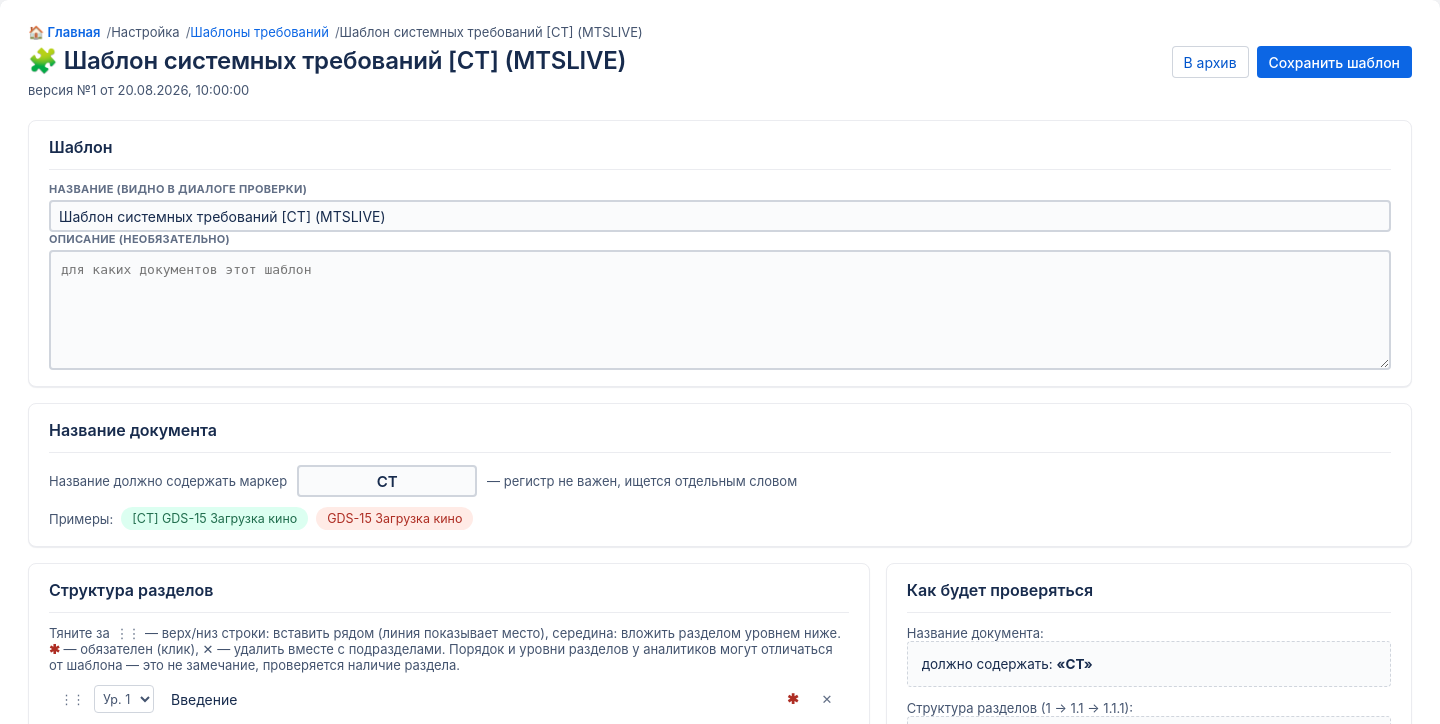
Test: TemplatePage: редактирование › показывает ошибку бэкенда при 422 (дубликаты разделов)
Expected: the 2nd field showing "Введение" is shown, top-left (162, 684), bottom-right (772, 714)
Click the button "Сохранить шаблон": {"x": 1334, "y": 62} top-left (1256, 46), bottom-right (1412, 78)
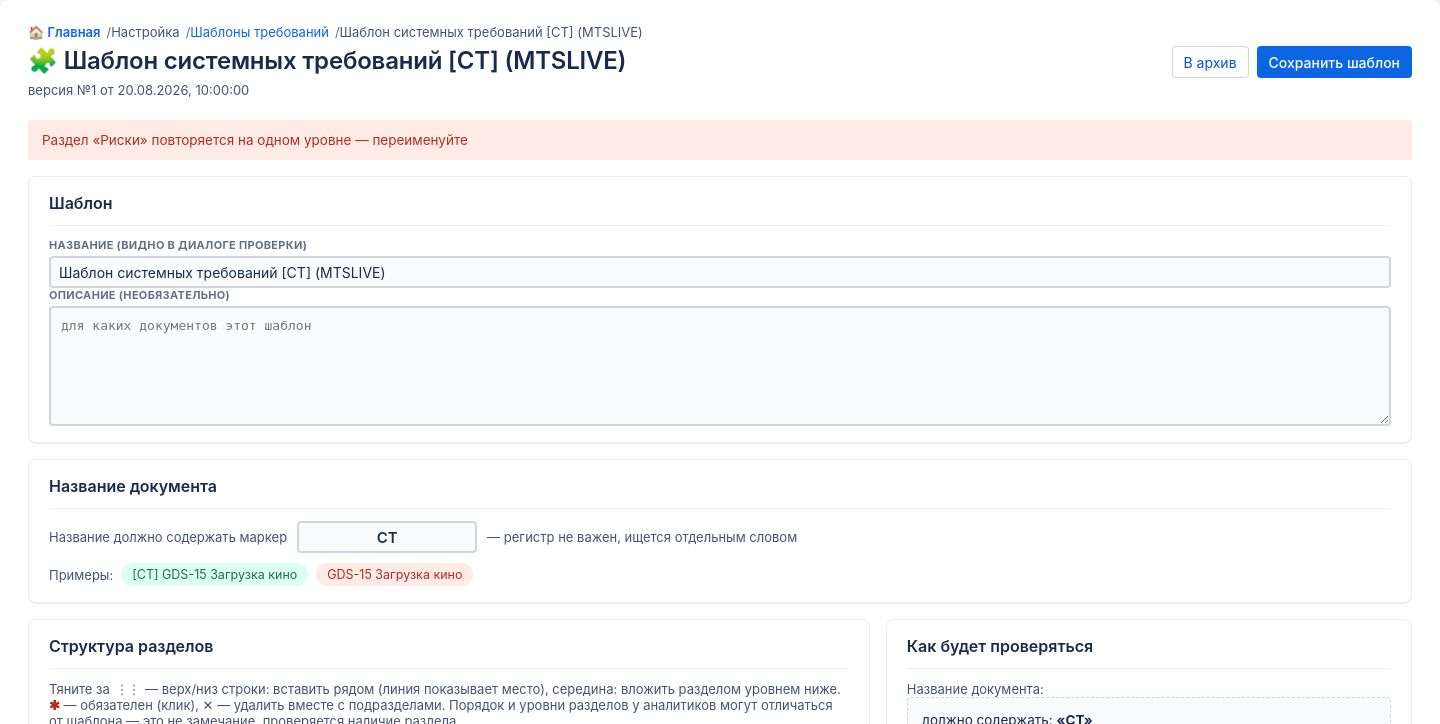
Now the text "Раздел «Риски» повторяется на одном уровне — переименуйте" is shown, box top-left (28, 120), bottom-right (1412, 160)
